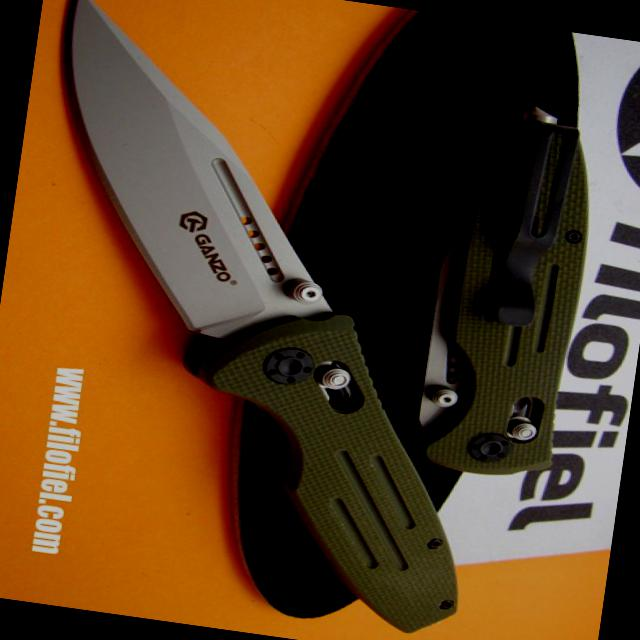knife: (10, 0, 379, 364)
